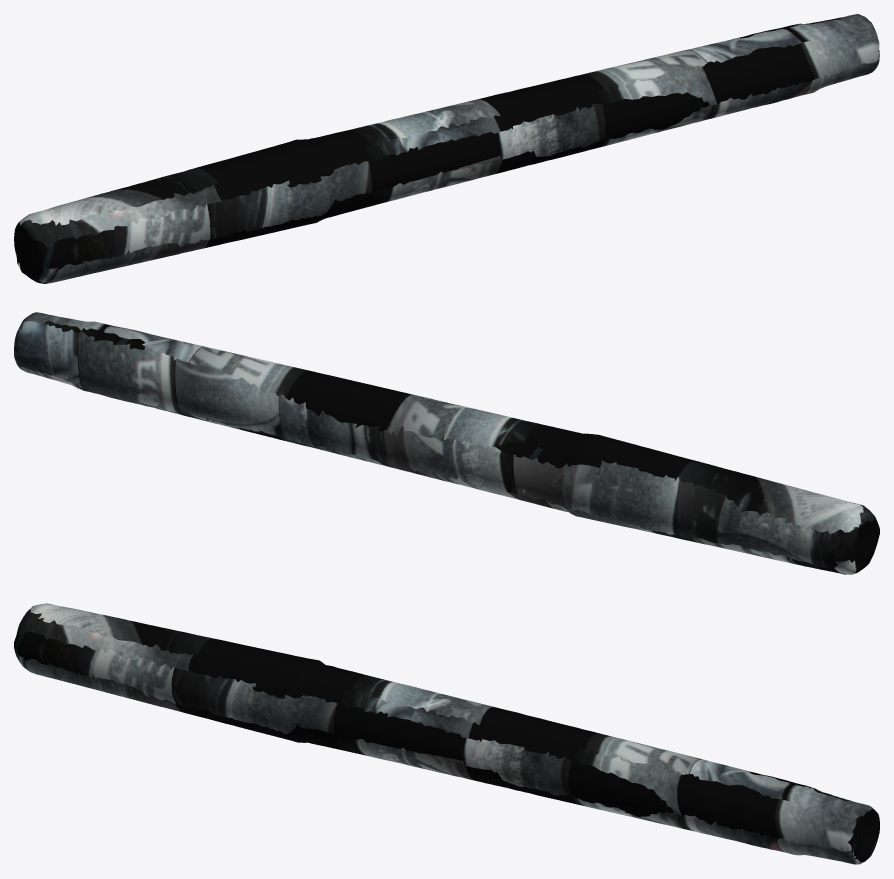
3 renders of one model, top to bottom at view 1: azimuth 30°, elevation 25°; view 2: azimuth 150°, elevation 25°; view 3: azimuth 330°, elevation 25°, orthographic.
Bounding box in the file's own units: 0.1361 × 0.0119 × 0.0118.
